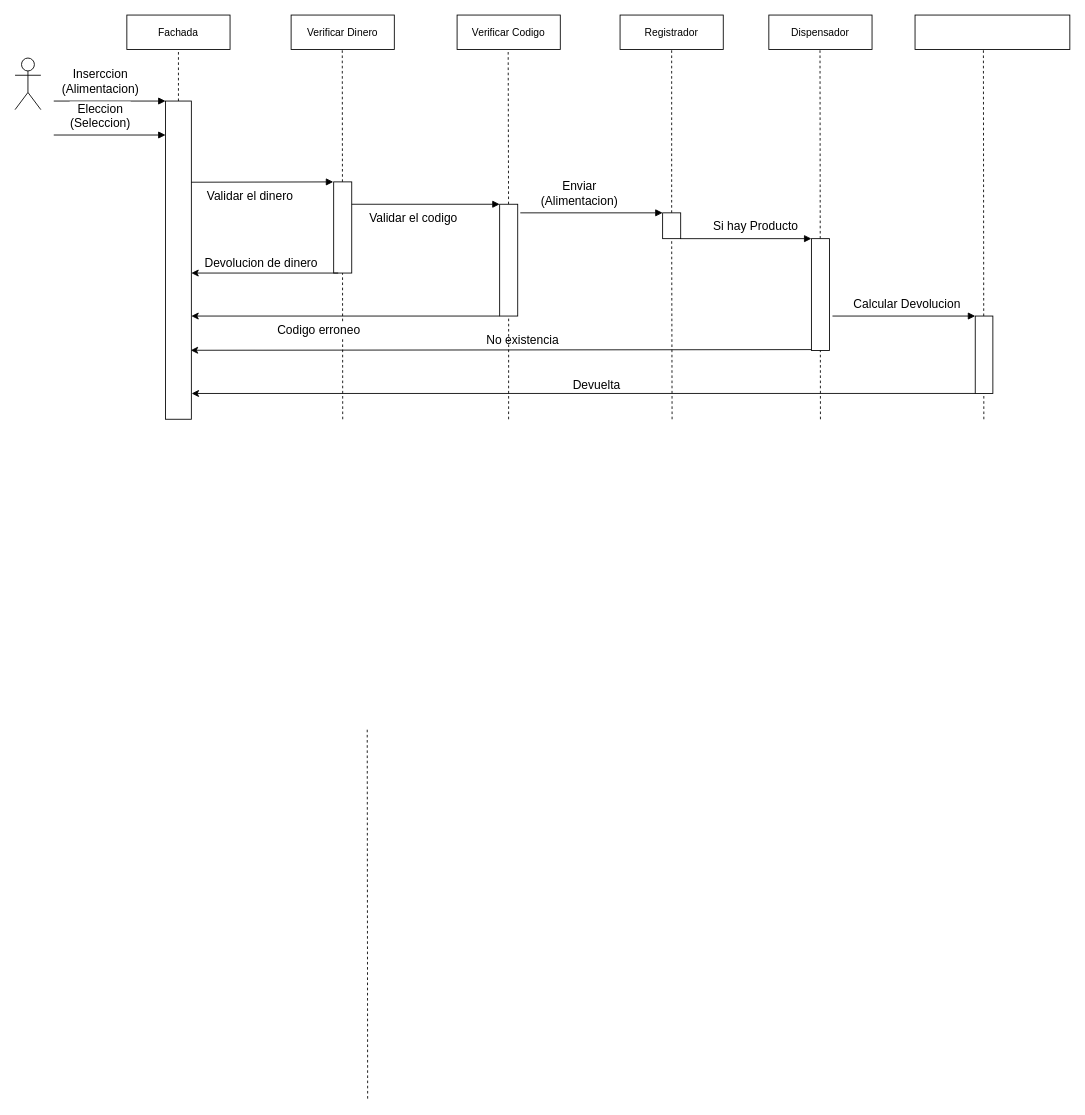
Some shapes in this 1085 by 1115 pixel diagram are drawn without their labels. Here are the shapes that lost their labels. From the top down, the centre of each, then its label:
(x=992, y=31): Verificar Devolucion De dinero
(x=27, y=83): Actor
